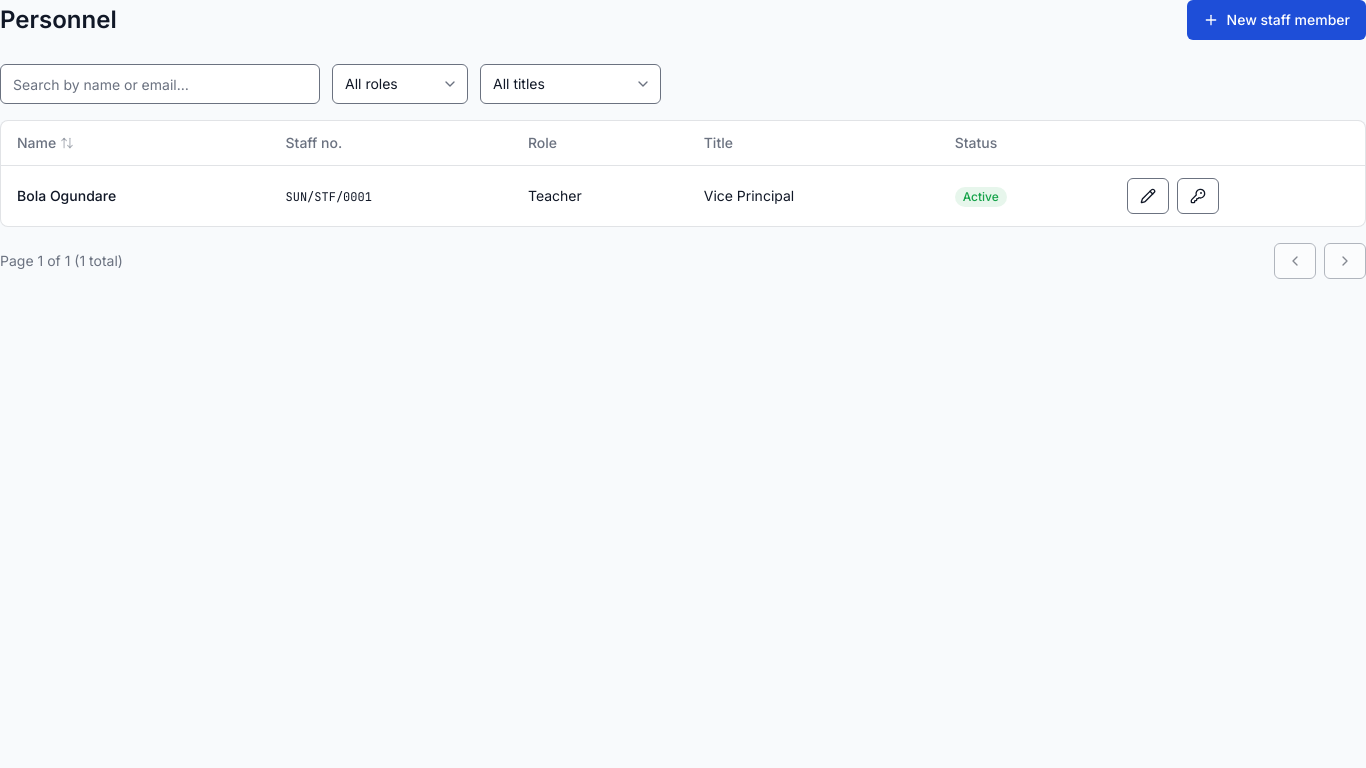
PersonnelListPage › reset-password dialog shows the one-time password after confirming
Click the button named "Reset password for Bola Ogundare": (1198, 196) [1177,178,1219,214]
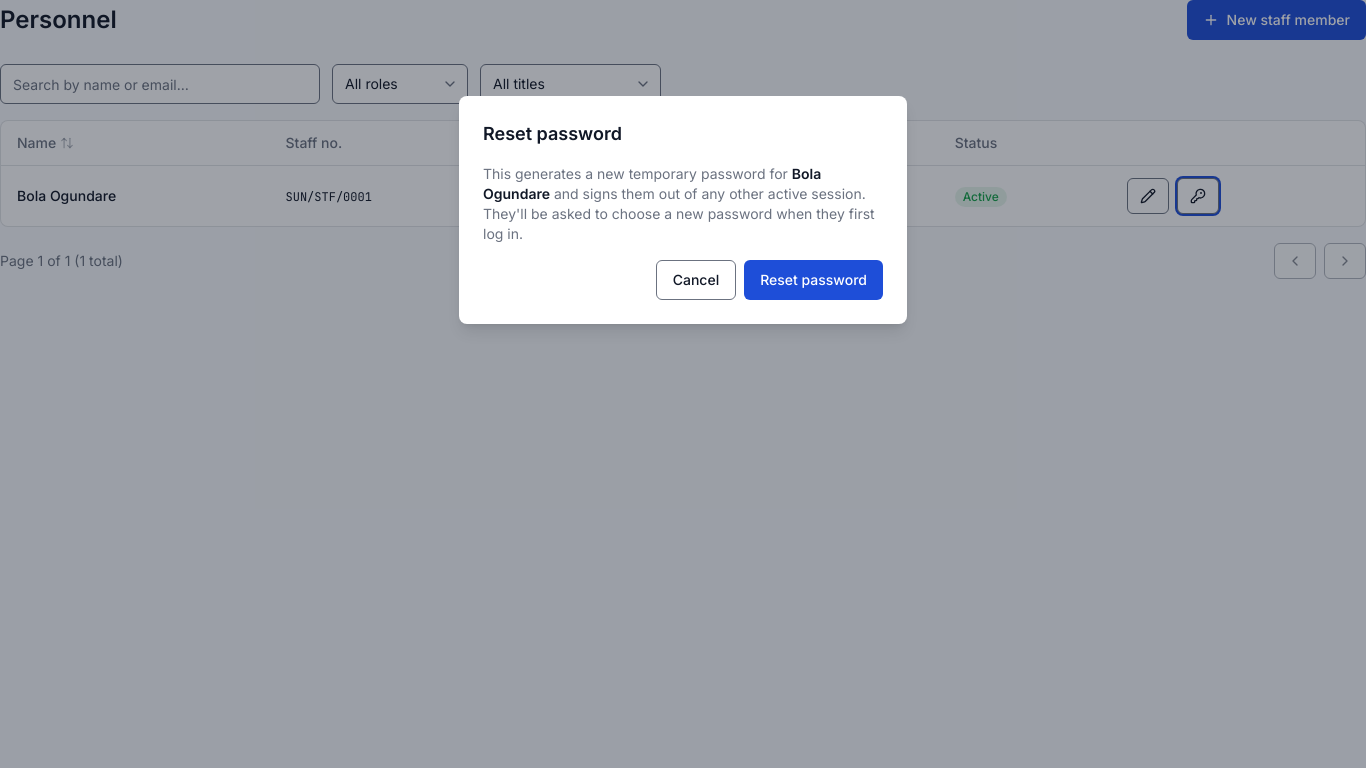
Click the button "Reset password": (814, 280) [744,260,883,300]
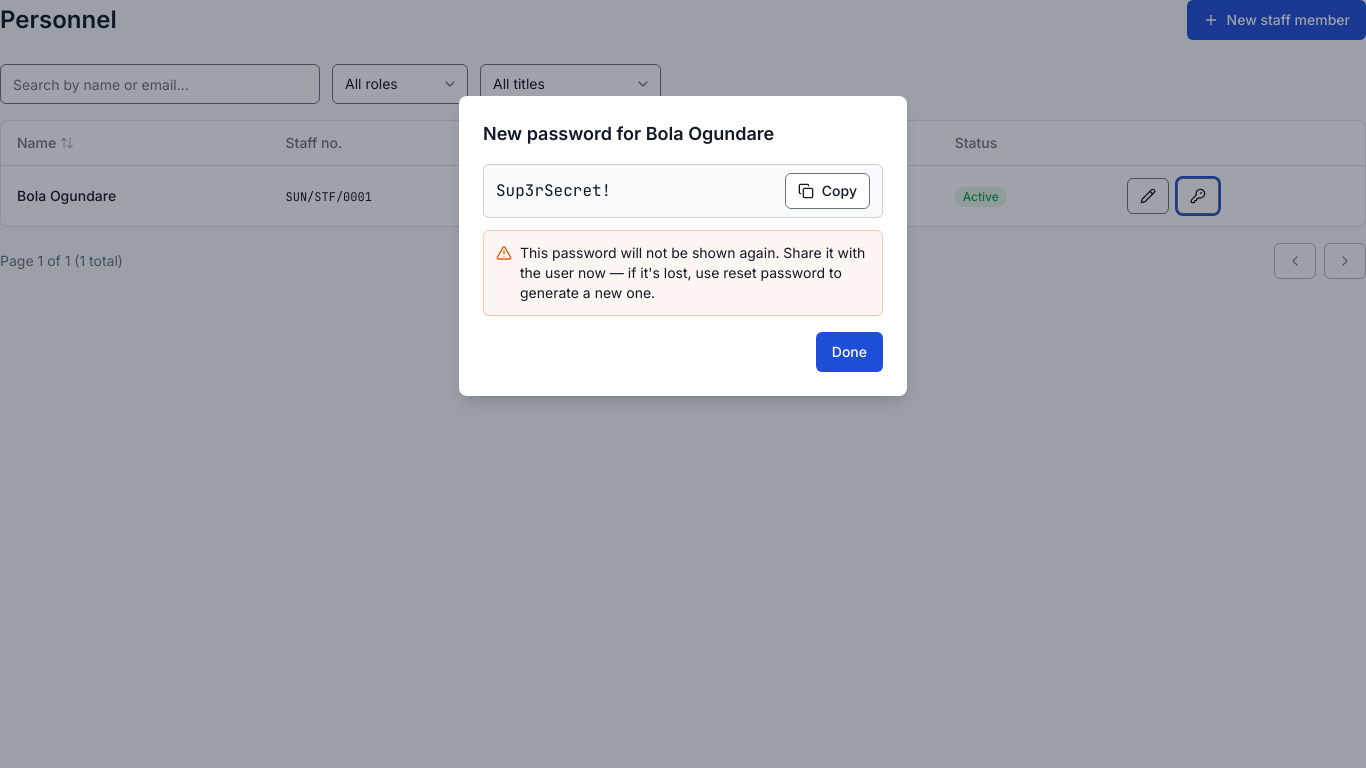
Result: the text "Sup3rSecret!" is shown at [496,179,611,203]
Result: the text "will not be shown again" is shown at [520,244,865,301]
